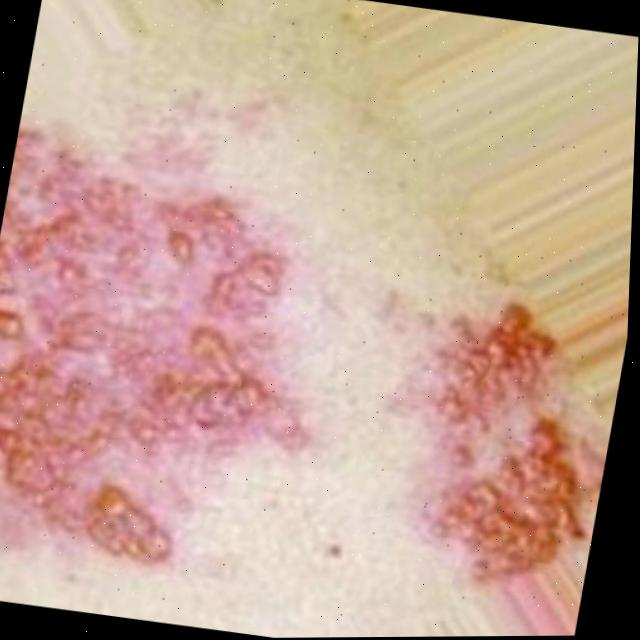Shingles: (0, 128, 303, 600), (418, 294, 608, 590)
